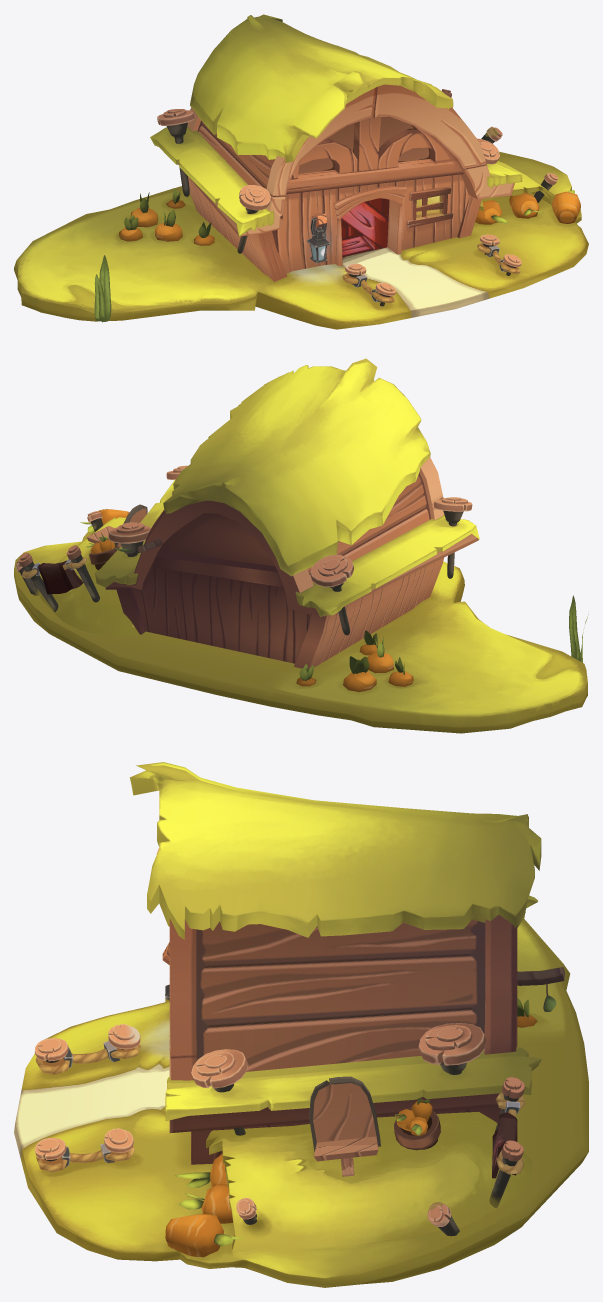
Rendered from crab_burrow.glb.
The picture shows the model from 3 angles, top to bottom: view 1: azimuth 30°, elevation 25°; view 2: azimuth 150°, elevation 25°; view 3: azimuth 270°, elevation 25°; orthographic projection. The views are drawn at different scales.
Parts seen in each view (by area): view 1: Home, Ground, Props2, grass; view 2: Home, Ground, Props2, grass; view 3: Home, Ground, Props2.
Boxes of the visible parts, x1=… form: Home: x1=150, y1=14, x2=522, y2=281; Ground: x1=14, y1=151, x2=588, y2=329; Props2: x1=119, y1=89, x2=580, y2=306; grass: x1=94, y1=255, x2=111, y2=322; Home: x1=95, y1=358, x2=479, y2=669; Ground: x1=14, y1=517, x2=587, y2=733; Props2: x1=15, y1=465, x2=472, y2=692; grass: x1=569, y1=595, x2=588, y2=662; Home: x1=129, y1=762, x2=564, y2=1164; Ground: x1=14, y1=919, x2=588, y2=1287; Props2: x1=34, y1=848, x2=537, y2=1257.
Bounding box in the file's own units: 38.42 × 15.1 × 22.9.
2 materials, 2 textured.
